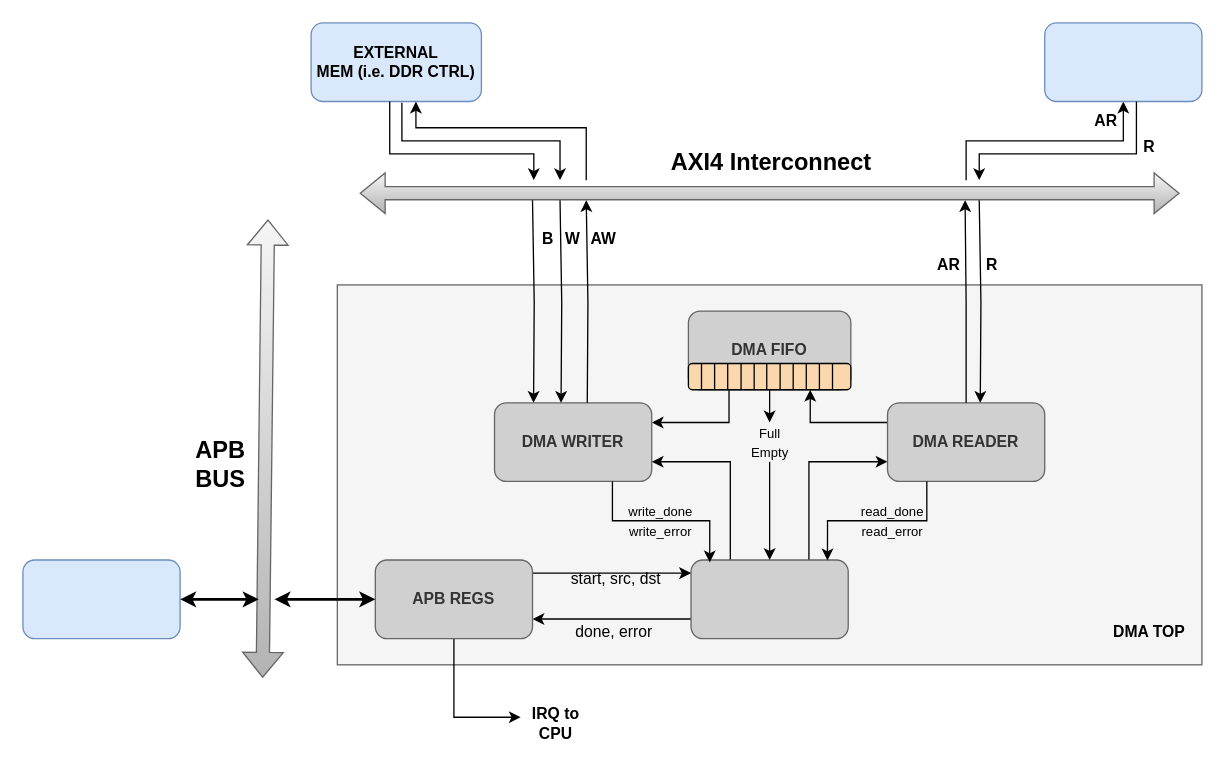
Some shapes in this 1225 by 766 pixel diagram are drawn without their labels. Here are the shapes that lost their labels. From the top down, the centre of each, then its label:
point 1122,62: ON-CHIP MEM (i.e. SRAM)
point 101,599: CPU( i.e. via APB Bridge)
point 769,599: DMA CTRL (FSM)
